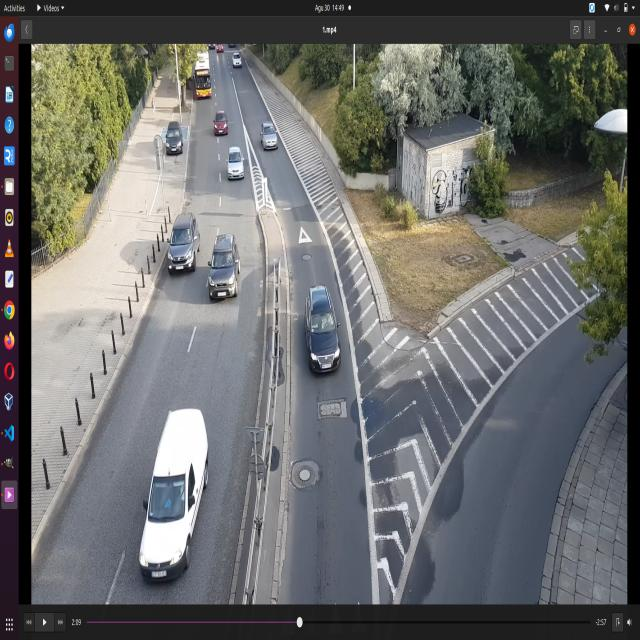person_with_seatbelt: (177, 480, 189, 509), (321, 314, 334, 332)
